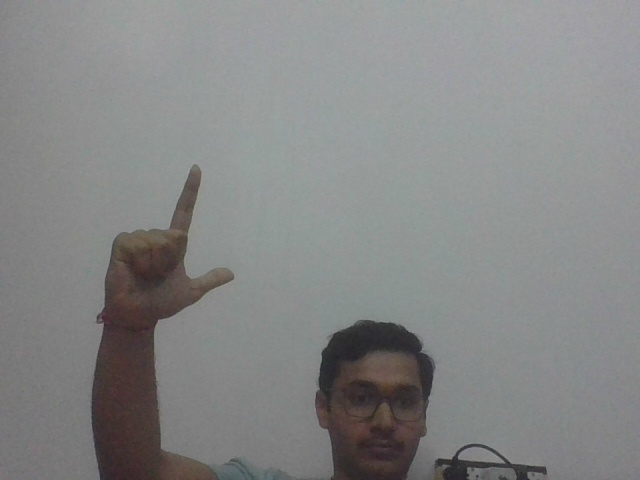L: (98, 153, 242, 315)
